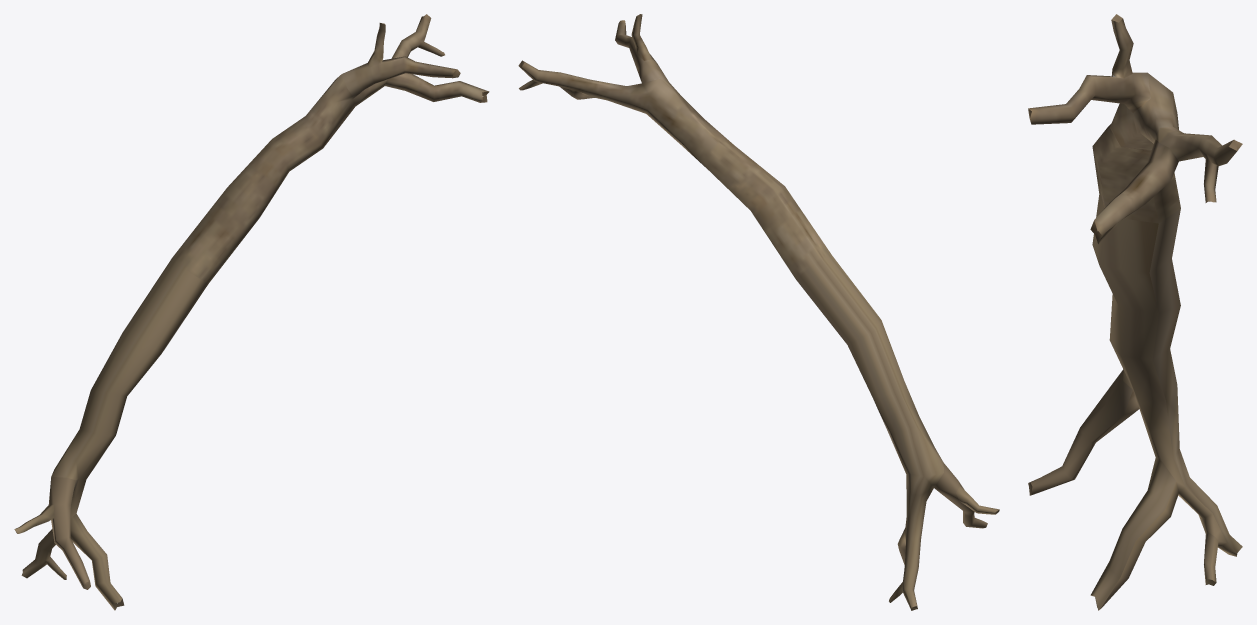
Rendered from objects_un_dlc2_tree_dead01_01.gltf.
The picture shows the model from 3 angles, left to right: view 1: azimuth 30°, elevation 25°; view 2: azimuth 150°, elevation 25°; view 3: azimuth 270°, elevation 25°; orthographic projection. The views are drawn at different scales.
Parts seen in each view (by area): view 1: um_objects_un_dlc2_tree_dead01_01_model_lod0Shape:objects_un; view 2: um_objects_un_dlc2_tree_dead01_01_model_lod0Shape:objects_un; view 3: um_objects_un_dlc2_tree_dead01_01_model_lod0Shape:objects_un.
Part boxes in pixels (x1,y1,x2,y2): um_objects_un_dlc2_tree_dead01_01_model_lod0Shape:objects_un: [14, 14, 489, 610]; um_objects_un_dlc2_tree_dead01_01_model_lod0Shape:objects_un: [518, 14, 999, 610]; um_objects_un_dlc2_tree_dead01_01_model_lod0Shape:objects_un: [1028, 14, 1242, 610].
Size of what is drawn, in the model's own units: 5.27 by 5.56 by 1.36.
Materials: 2 (1 with a texture image).
